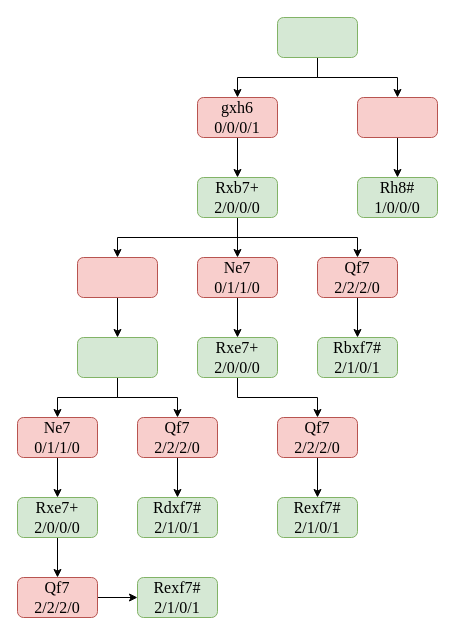
The diagram is 455 pixels wide and 635 high, and some of its shapes have lost their labels. Each missing label, with the centre of its shape:
Bd7 0/1/1/0: (x=117, y=277)
Kxh6 0/2/0/1: (x=397, y=117)
Qh6+ 3/1/2/0: (x=317, y=37)
Rxd7+ 2/0/0/0: (x=117, y=357)
